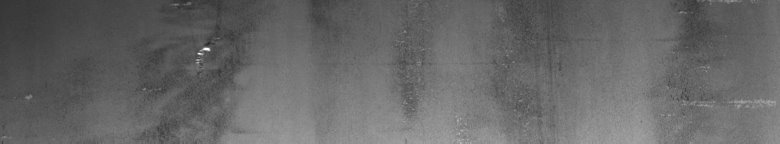hc: (143, 4, 219, 91)
